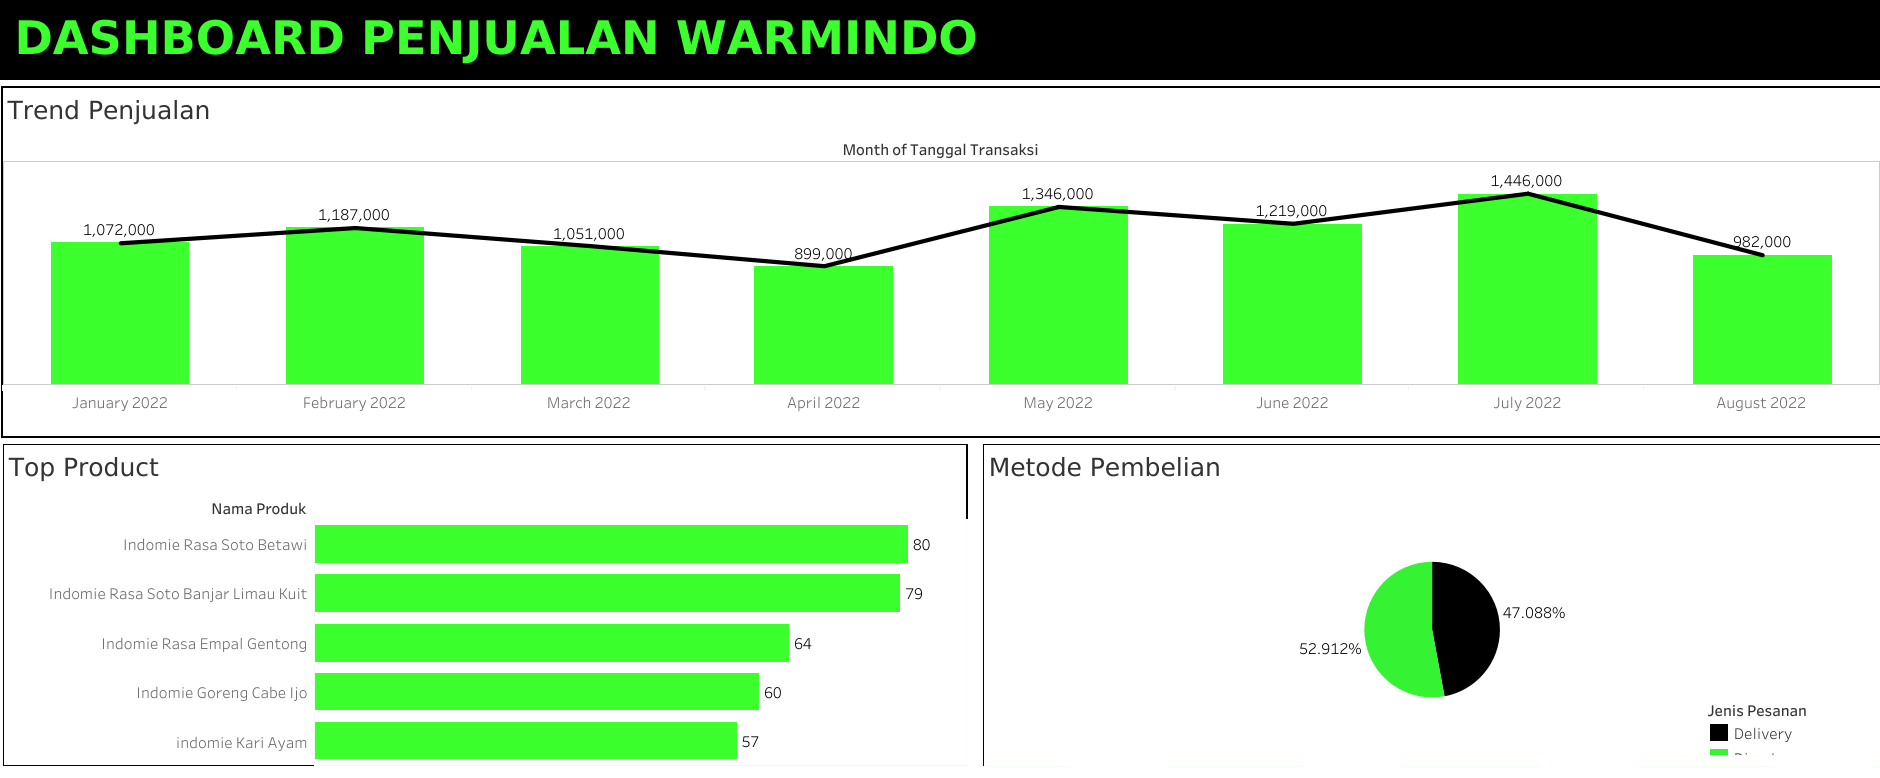

What the dashboard file says about the page in this screenshot:
{"tool":"tableau","page":{"name":"Dashboard 1","canvas":[1000,1000],"units":"permille","ordinal":0},"visuals":[{"type":"text","box":[6,23.5,601.1,49.4]},{"type":"worksheet","title":"Trend Penjualan","mark":"Bar","rows":["nilai_penjualan","nilai_penjualan"],"cols":["tanggal_transaksi"],"box":[0.5,110.5,999.5,451.2]},{"type":"worksheet","title":"Top Product","mark":"Automatic","rows":["nama_produk"],"cols":["quantity"],"box":[1.2,569.9,513,414.8]},{"type":"worksheet","title":"Metode Pembelian","mark":"Pie","box":[522.2,569.9,477.8,413.6]},{"type":"legend","title":"Metode Pembelian","param":"[federated.0uygz7e0gjtn910zu1ml01z10bds].[none:jenis_pesanan:nk]","box":[906.8,894.2,84.2,75.2]}]}

Visuals, with their boxes on the dashboard's canvas, which has no fixed pixel size, in thousandths of its width and height (x1, y1, x2, y2). These are canvas units, not pixel positions in the 1880x778 screenshot, which may show the page scaled, cropped or inside an application window:
text: bbox(6, 24, 607, 73)
"Trend Penjualan" worksheet (Bar marks): bbox(0, 110, 1000, 562)
"Top Product" worksheet: bbox(1, 570, 514, 985)
"Metode Pembelian" worksheet (Pie marks): bbox(522, 570, 1000, 984)
"Metode Pembelian" legend: bbox(907, 894, 991, 969)
